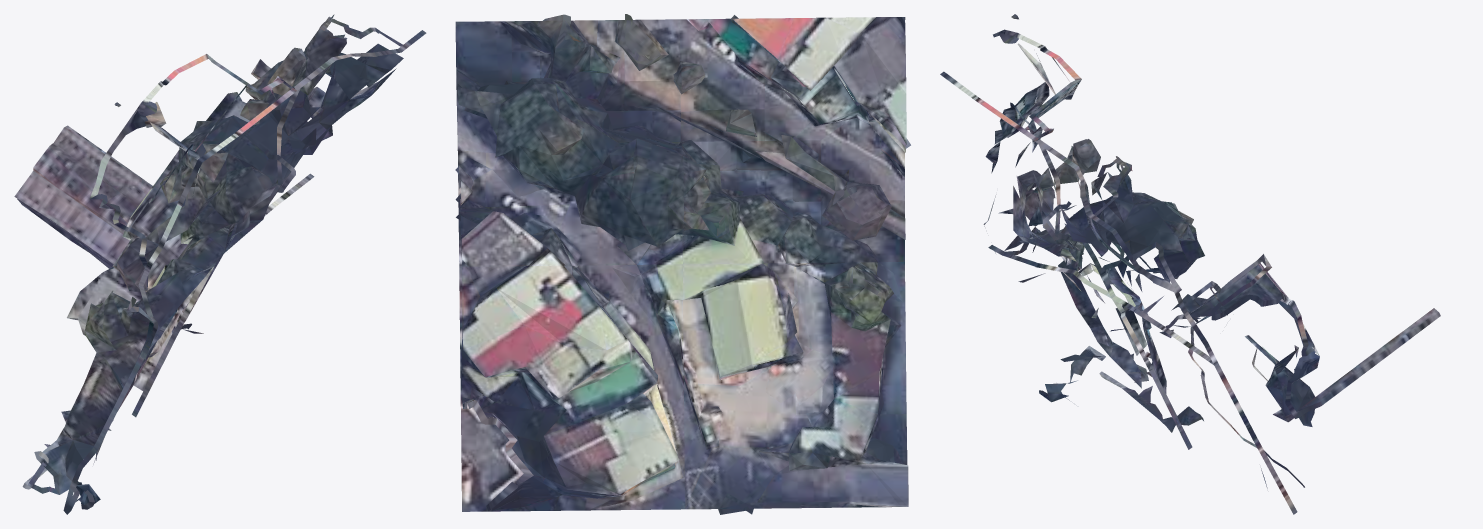
3 views of the same model, side by side, from view 1: azimuth 30°, elevation 25°; view 2: azimuth 150°, elevation 25°; view 3: azimuth 270°, elevation 25° (orthographic). The views are drawn at different scales.
Size of the model in its own units: 80.4 by 79.79 by 96.02.
Materials: 2 (2 with a texture image).
